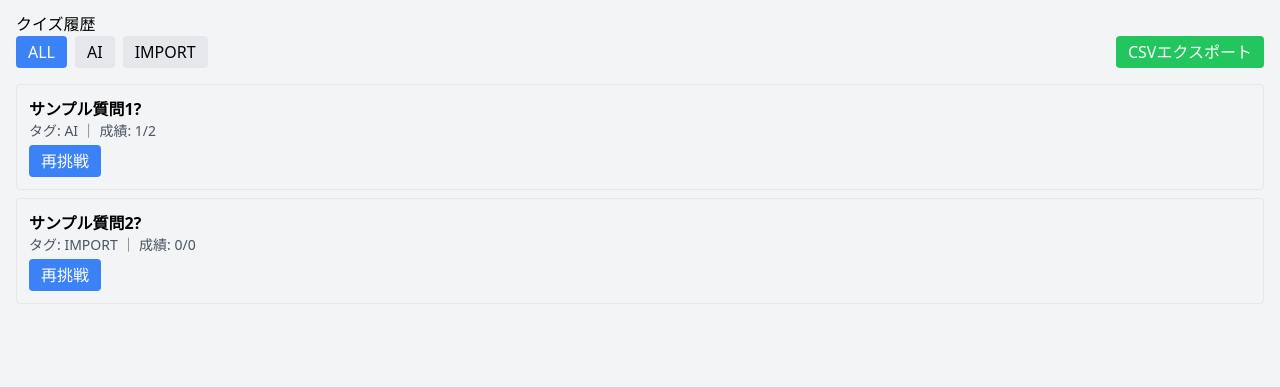
Pages smoke › HistoryPage lists quizzes and allows re-challenge & answering
The width and height of the screenshot is (1280, 387).
Check: the text "サンプル質問1?" is shown, box [29,98,141,120]
再挑戦ボタン → 詳細表示に切替（説明はまだ表示されない）
Click the button "再挑戦" below "サンプル質問1?". click: x=65, y=161
box: [29,145,101,177]
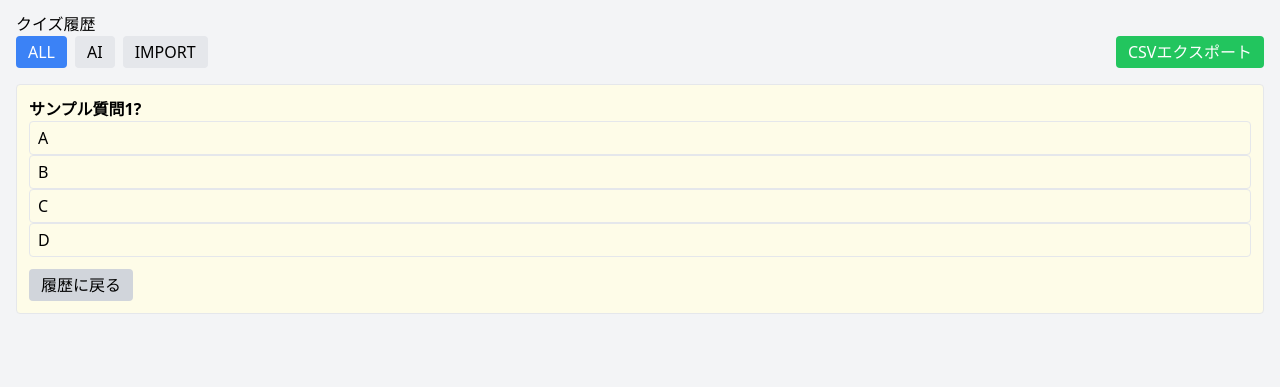
Check: the text "説明1" is not shown
回答ボタン押下で結果 + 説明表示
Click the button "A". click: x=43, y=138
box: [29,121,1251,155]
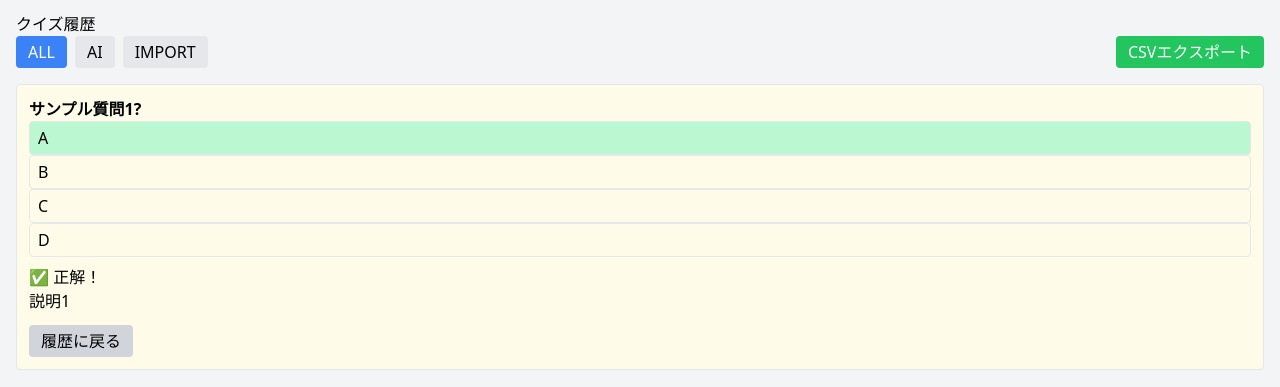
Check: the text "✅ 正解！説明1" is shown, box [29,266,101,312]
